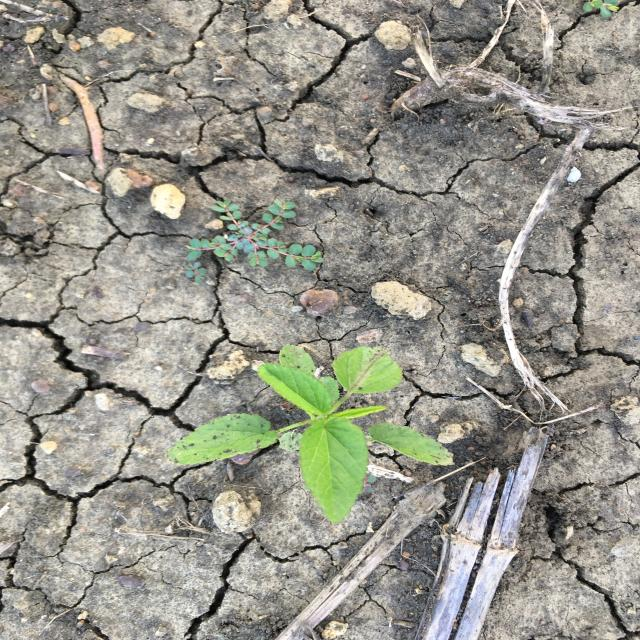PricklySida: (164, 342, 460, 528)
SpottedSpurge: (181, 196, 328, 274)
